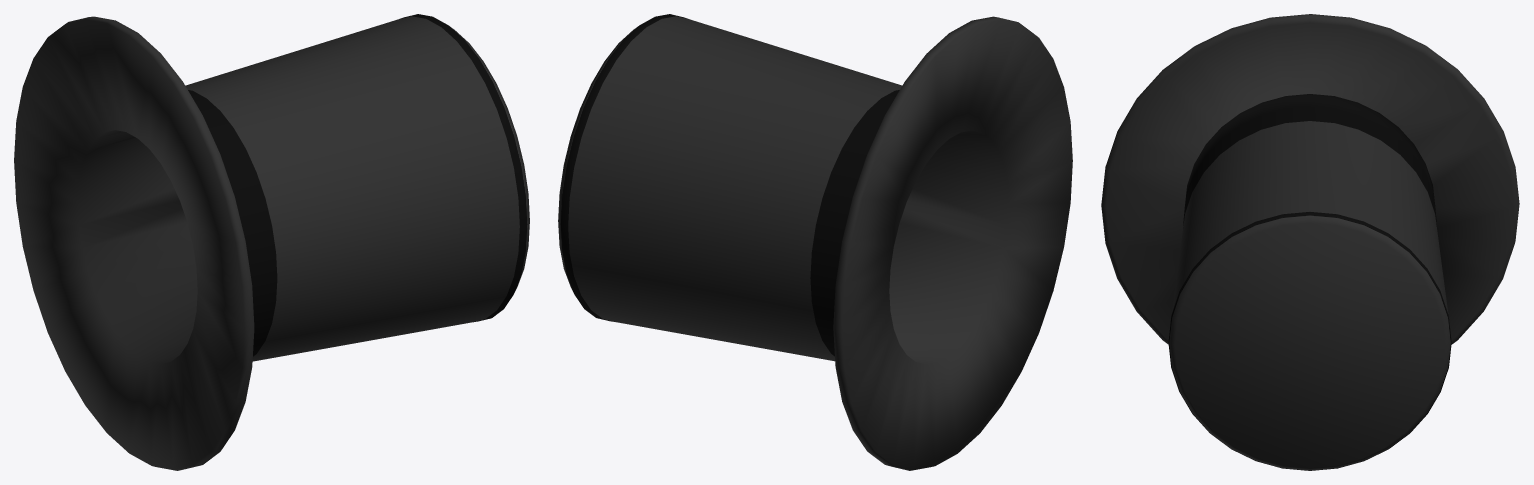
File: StovePipeHat.fbx
3 renders of one model, left to right at view 1: azimuth 30°, elevation 25°; view 2: azimuth 150°, elevation 25°; view 3: azimuth 270°, elevation 25°, orthographic. The views are drawn at different scales.
Parts seen in each view (by area): view 1: StovePipeHat; view 2: StovePipeHat; view 3: StovePipeHat.
Part boxes in pixels (x1,y1,x2,y2): StovePipeHat: [14, 14, 529, 470]; StovePipeHat: [558, 14, 1072, 470]; StovePipeHat: [1101, 14, 1519, 470].
Size of the model in its own units: 0.1665 by 0.2058 by 0.2058.
